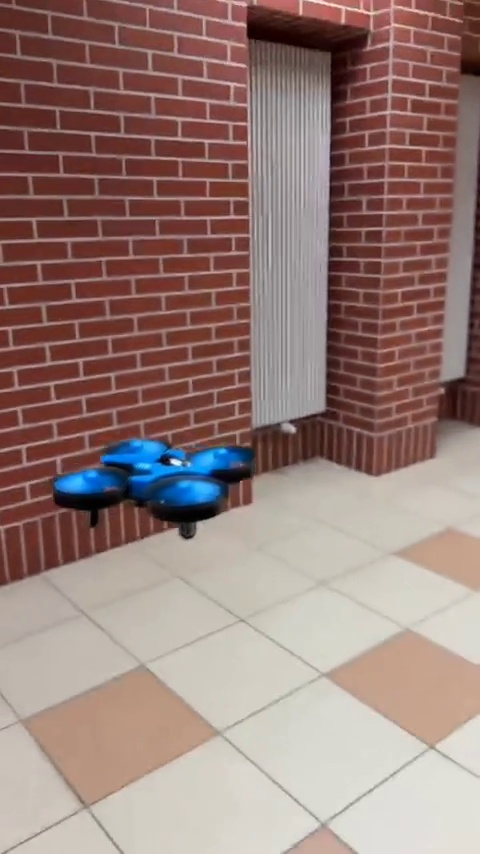drone: (47, 442, 261, 532)
